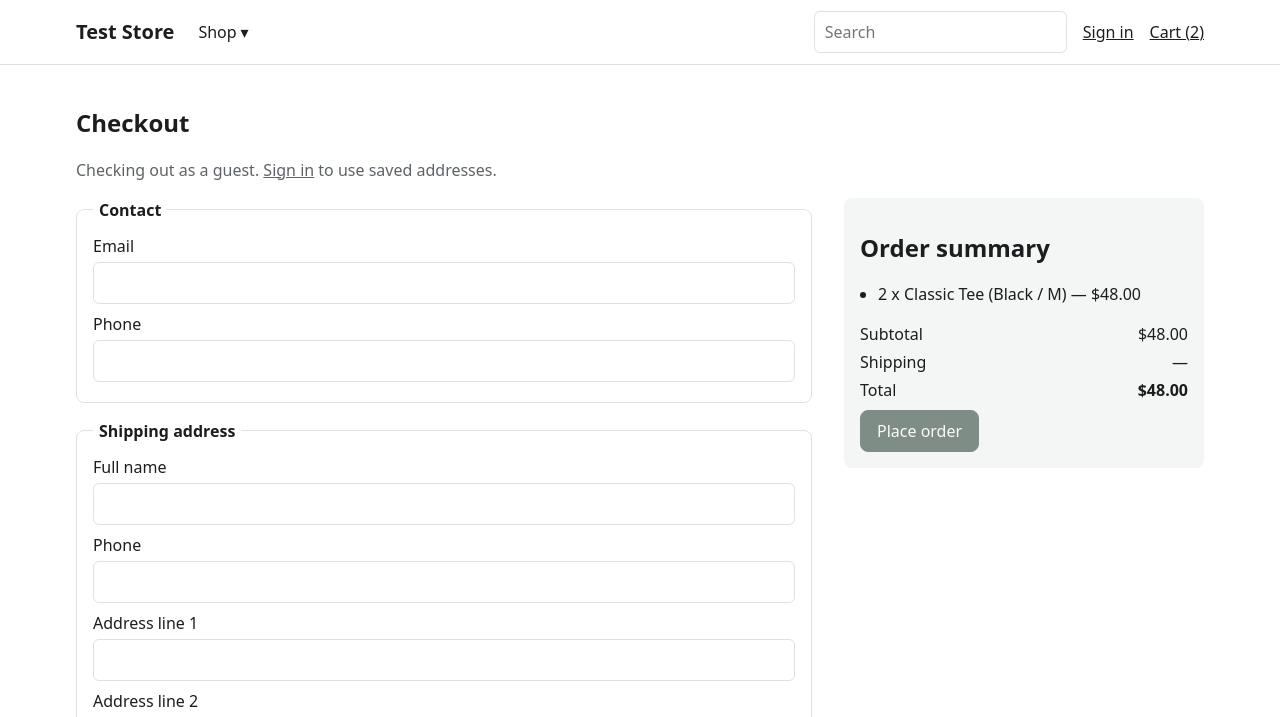
Test case: Checkout › places a cash-on-delivery order and lands on the confirmation page
In the field labelled "Email": [444, 283] box [93, 262, 795, 304], type "guest@example.com"
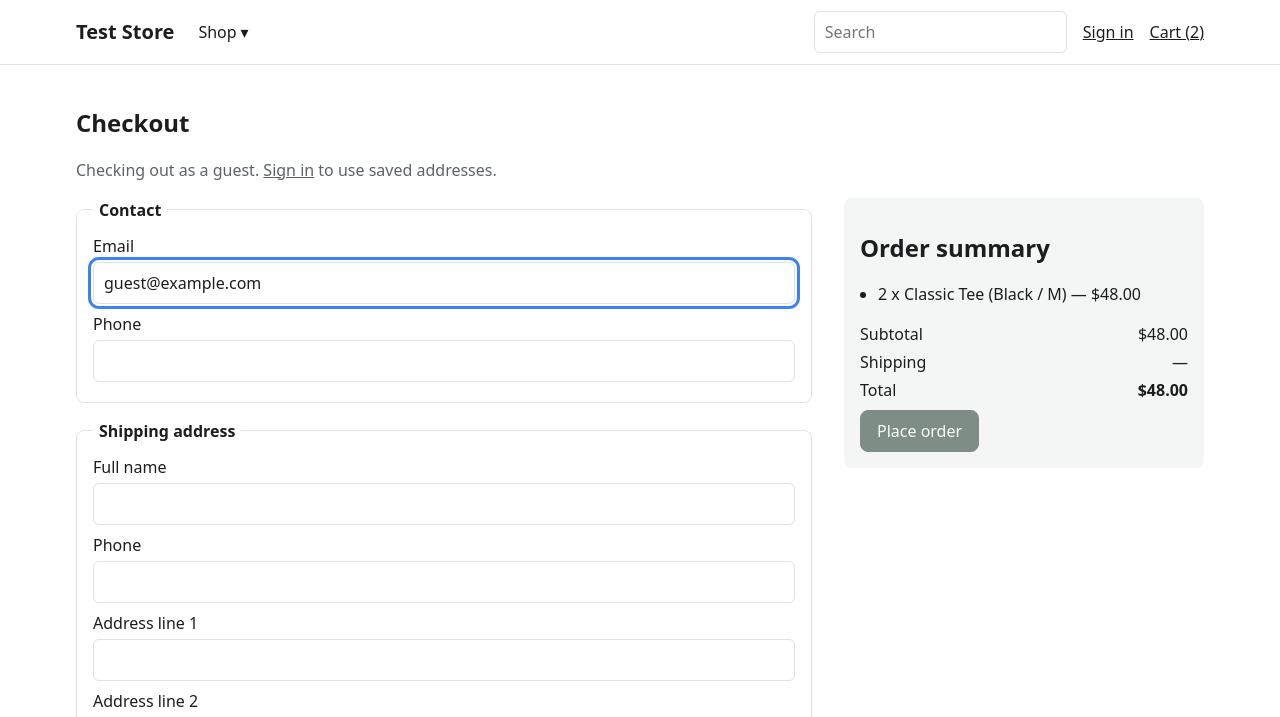
In the field labelled "Full name": [444, 504] box [93, 483, 795, 525], type "Gus Guest"
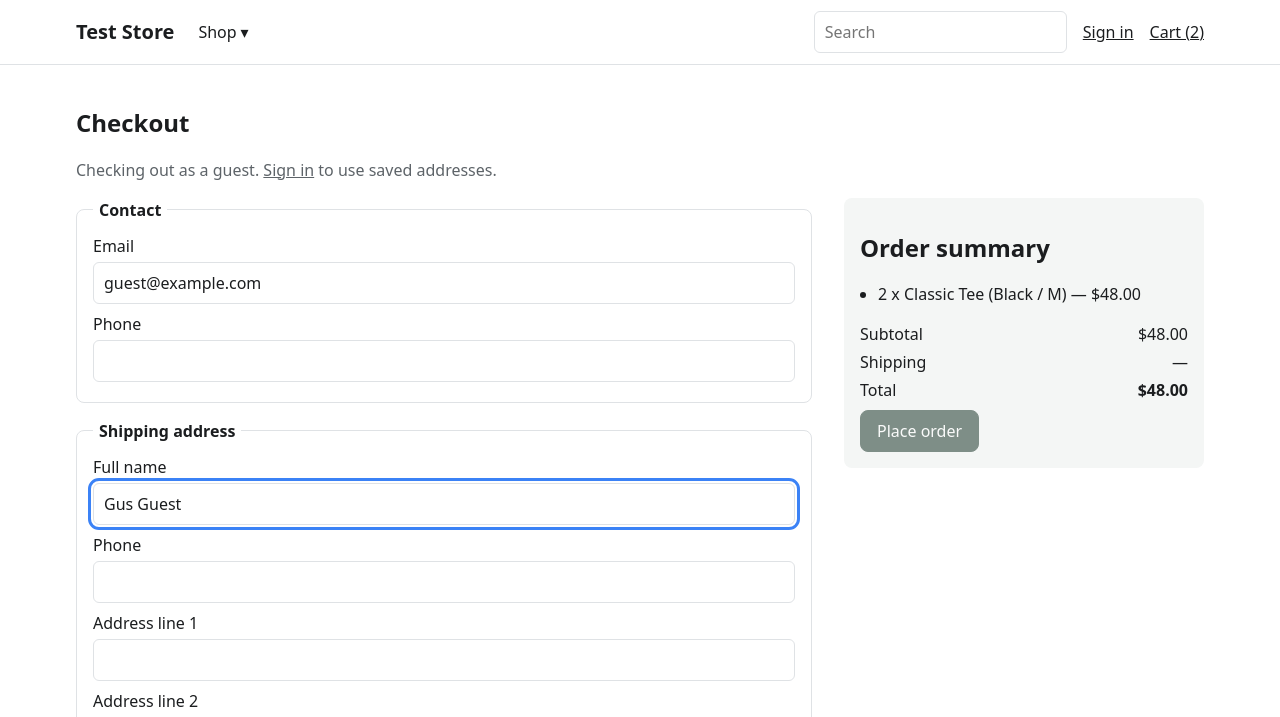
In the field labelled "Address line 1": [444, 660] box [93, 639, 795, 681], type "1 Main St"
(page scrolled)
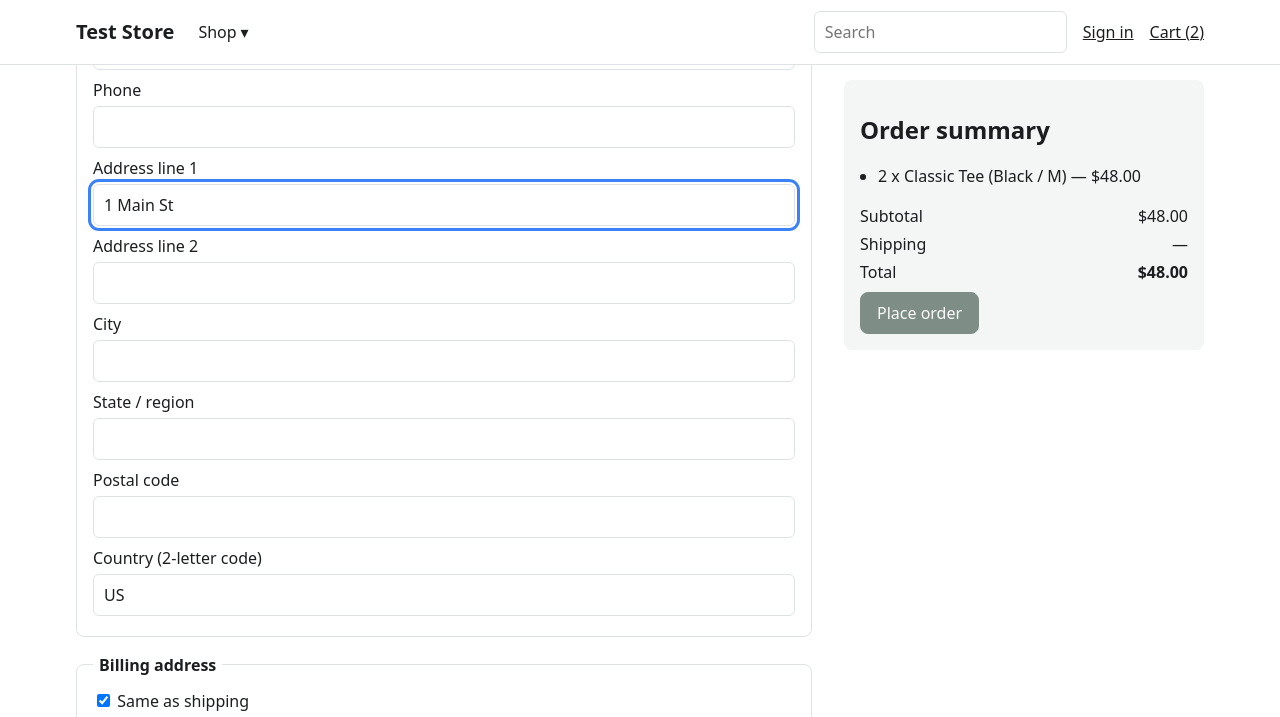
In the field labelled "City": [444, 361] box [93, 340, 795, 382], type "Town"
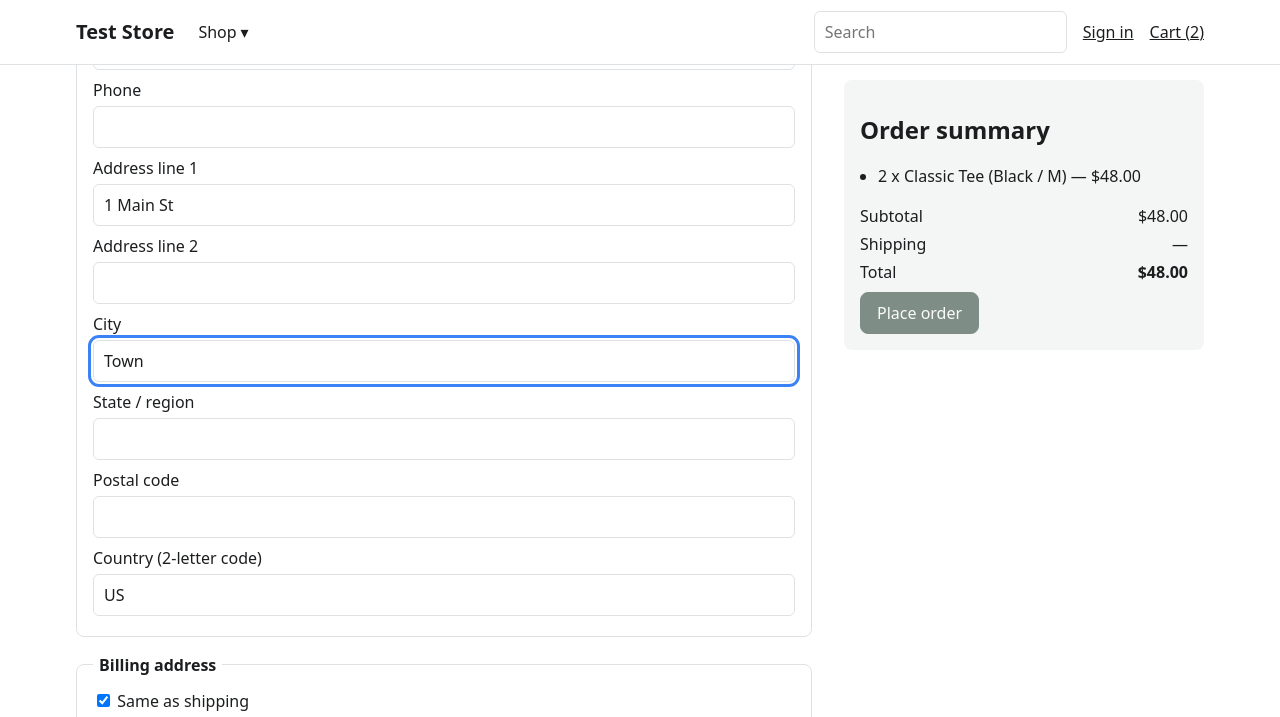
In the field labelled "Postal code": [444, 517] box [93, 496, 795, 538], type "12345"
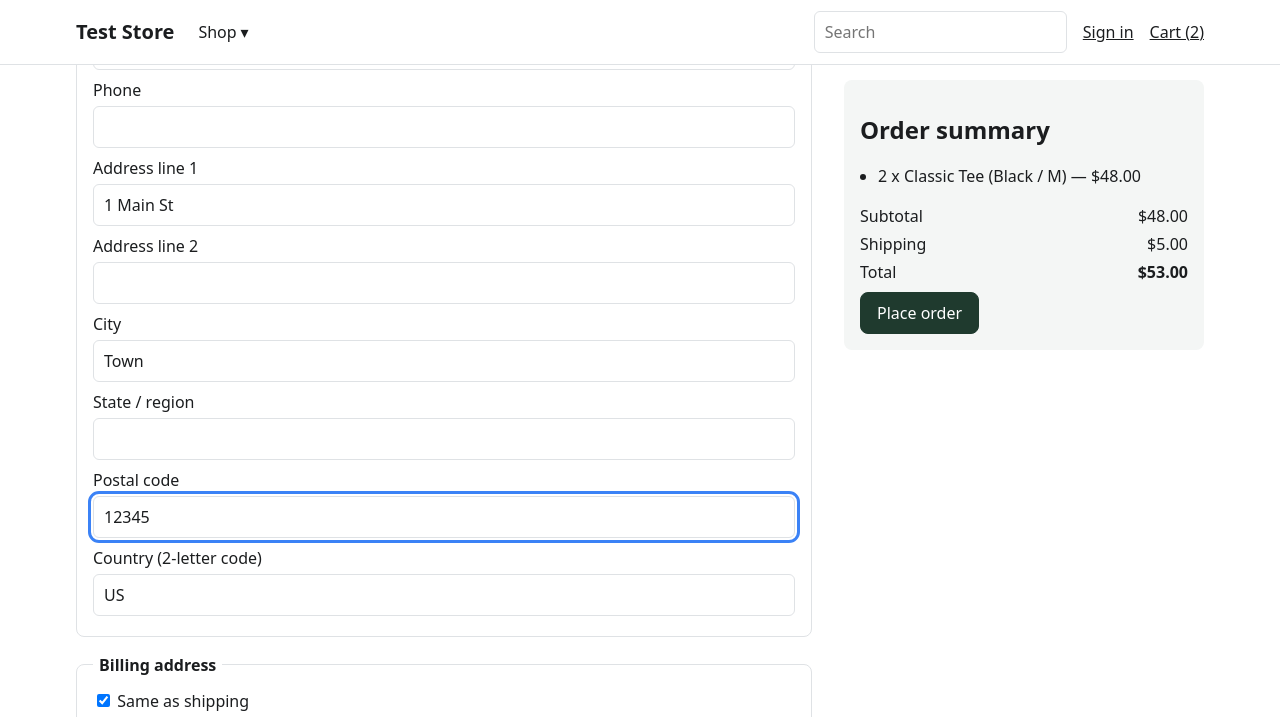
Now the text "$53.00" is shown, box [1138, 262, 1188, 284]
Click the button "Place order": [920, 314] box [860, 293, 979, 335]
(page scrolled)
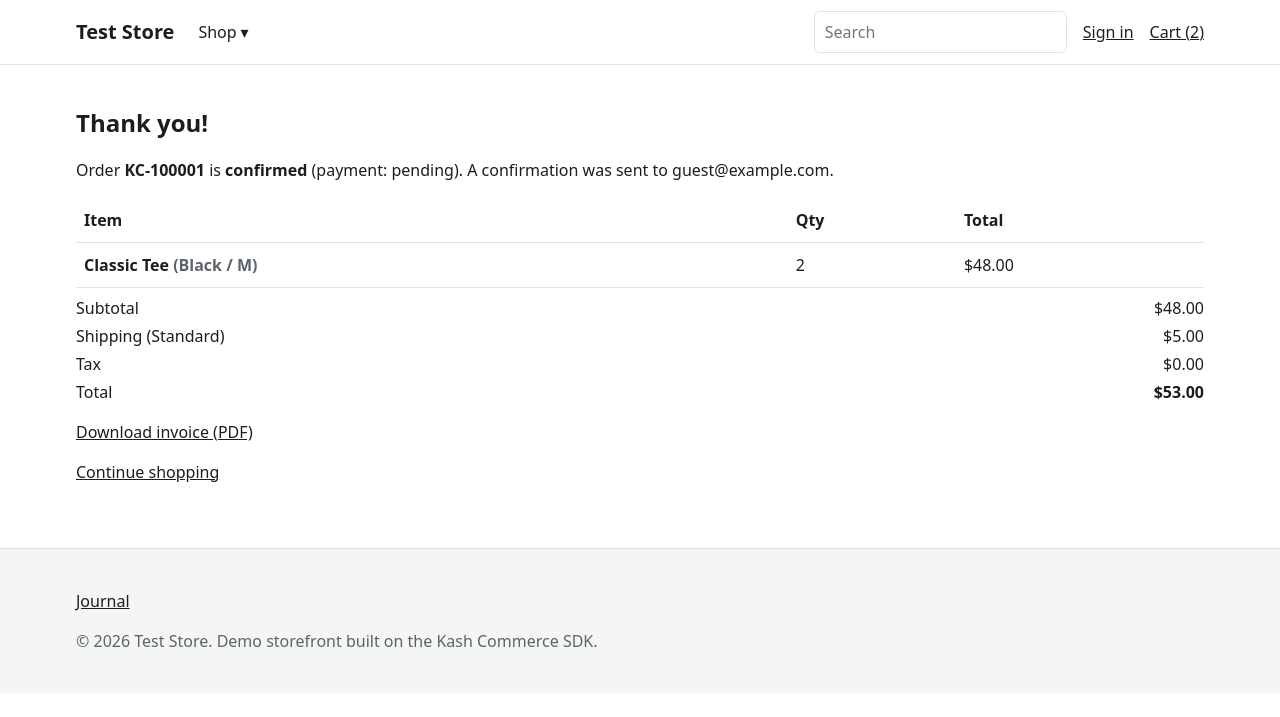
Now the heading "Thank you!" is shown, box [76, 106, 208, 139]
